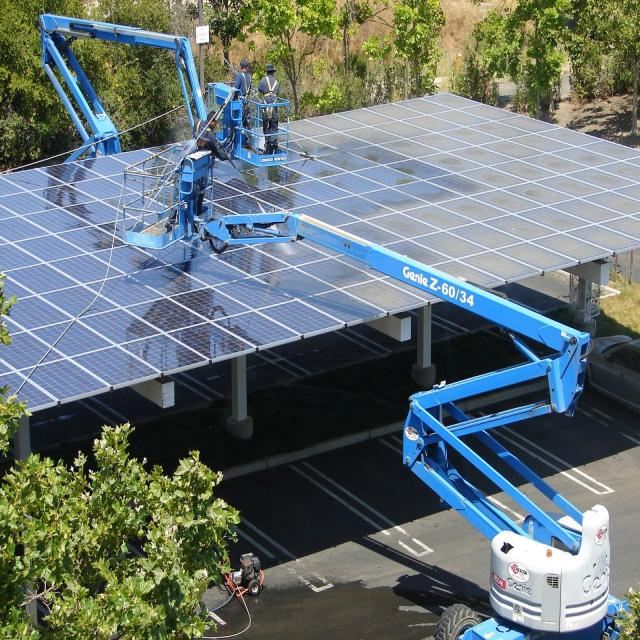clean-solar-panel: (0, 144, 377, 408)
dust-solar-panel: (214, 93, 640, 287)
